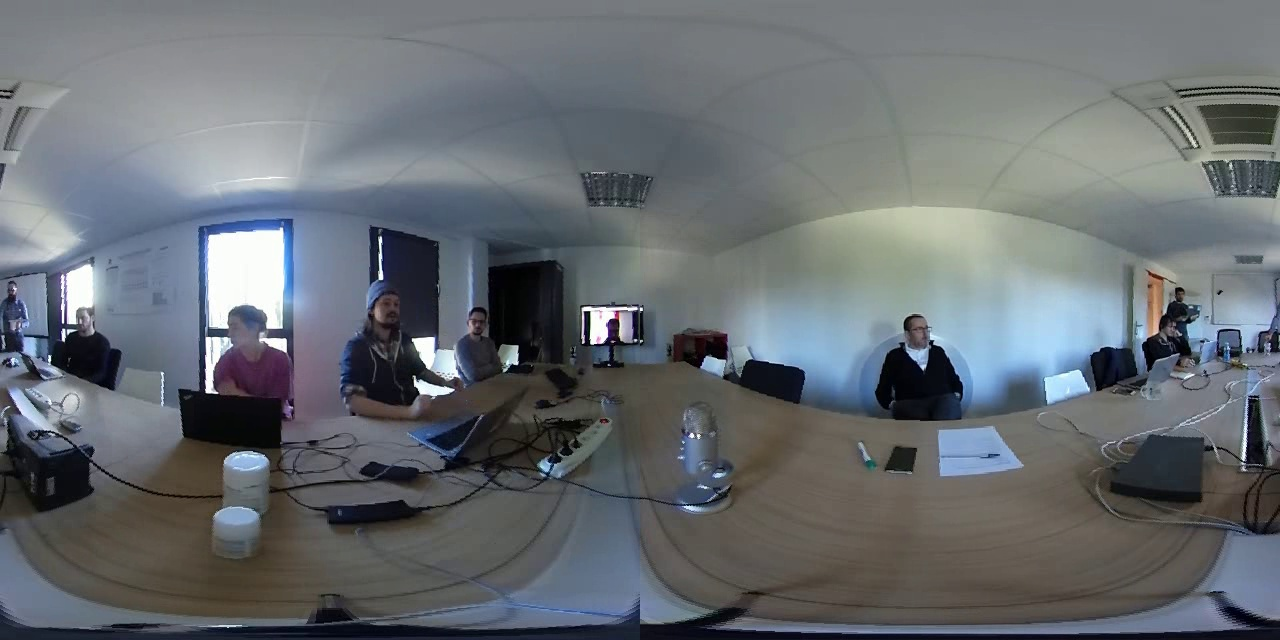person: (338, 273, 434, 427), (872, 310, 969, 410), (211, 298, 299, 406), (454, 297, 516, 394), (54, 303, 120, 391), (1132, 309, 1199, 369), (579, 303, 646, 345), (2, 273, 29, 356), (1163, 280, 1199, 318)
